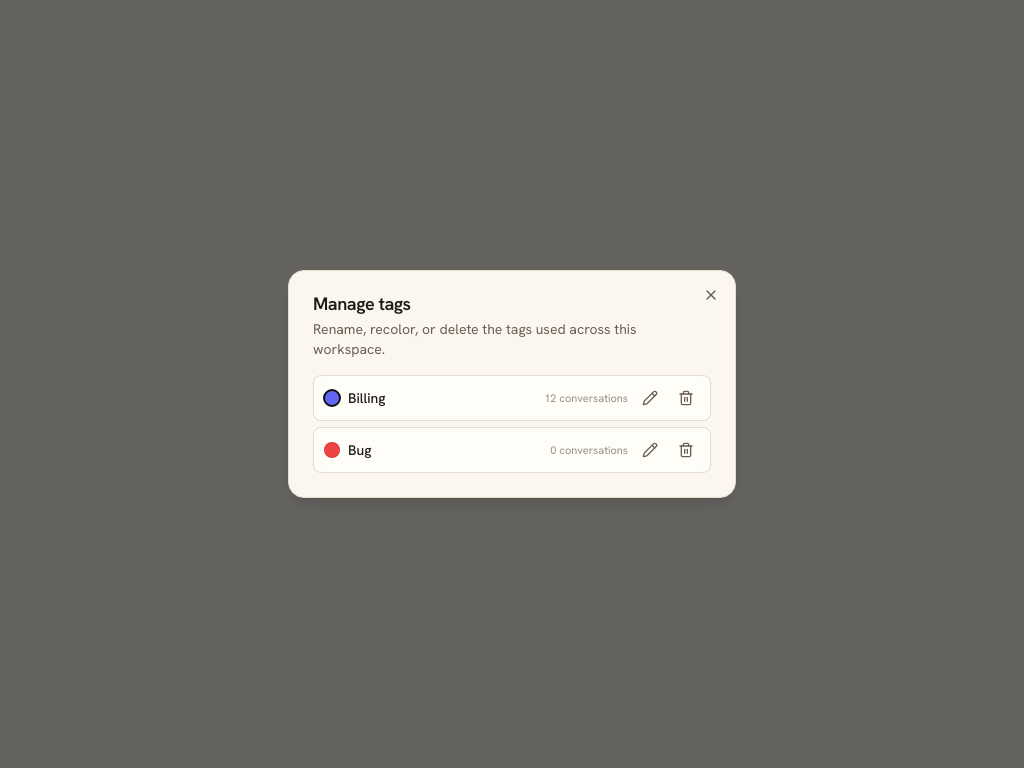
Scenario: ManageTagsDialog › for a tag on no conversations, the confirm says so (no '0 conversations' impact)
Click the button named "Delete Bug" at [686, 450], box x1=672 y1=436 x2=700 y2=464
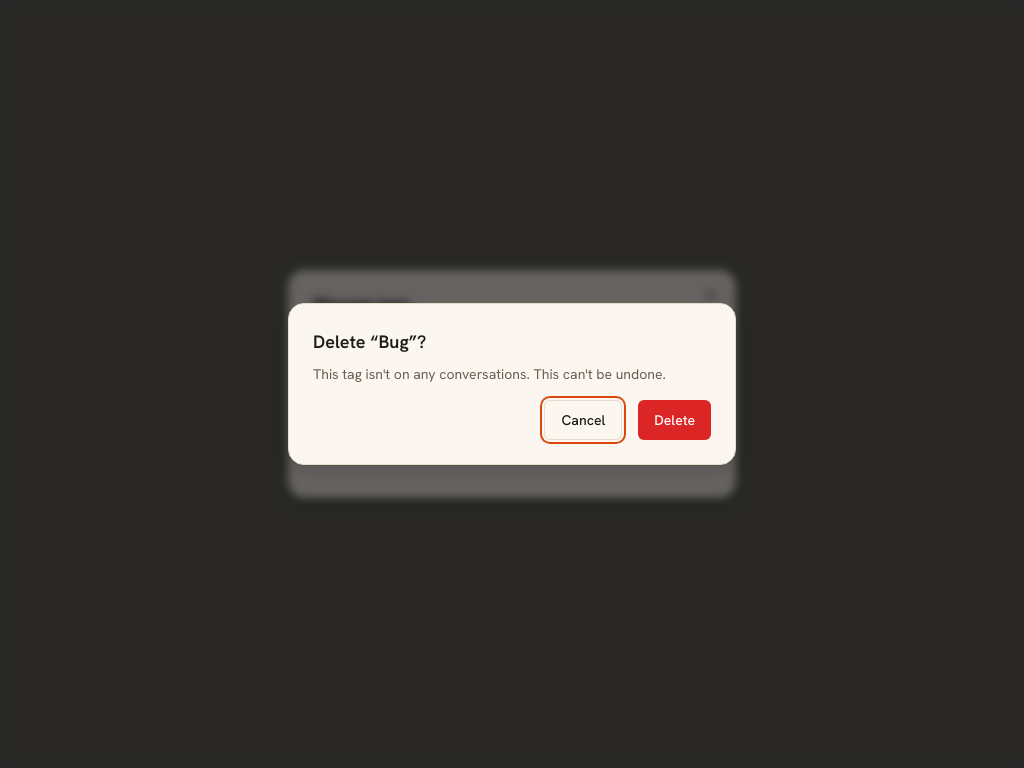
Result: the text "This tag isn't on any conversations. This can't be undone." is shown at x1=313 y1=364 x2=711 y2=384
